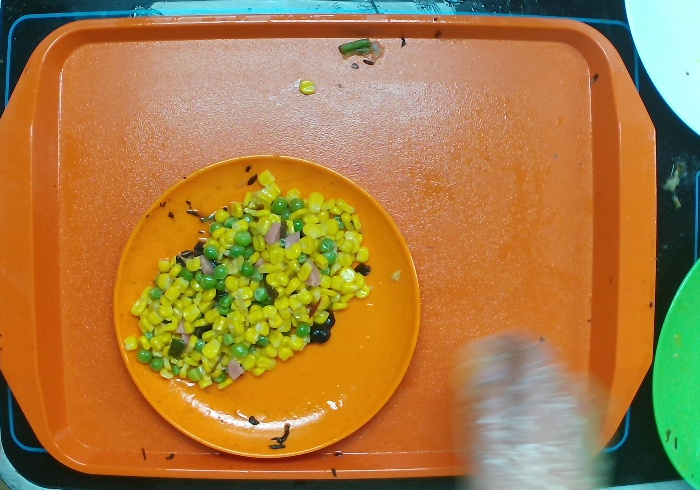HZYJPL-Ju_Huang_Yuan_Pan: (105, 147, 428, 466)
